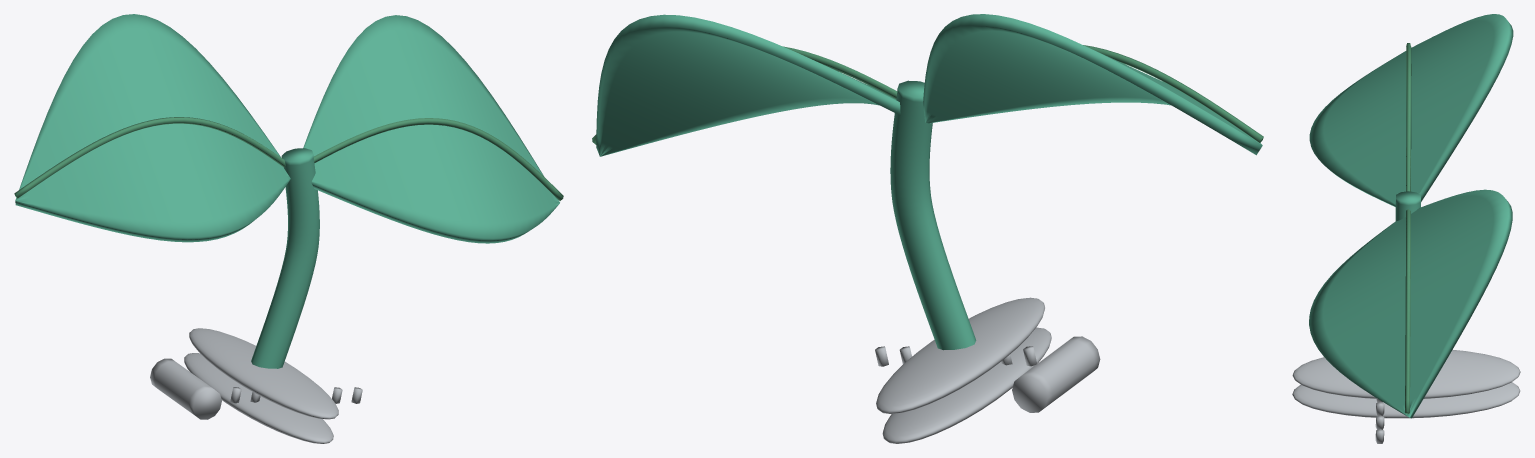
The model's file is Masculine-sidepart-pashmina250-sprout.glb.
The picture shows the model from 3 angles, left to right: view 1: azimuth 30°, elevation 25°; view 2: azimuth 150°, elevation 25°; view 3: azimuth 270°, elevation 25°; orthographic projection. The views are drawn at different scales.
Parts seen in each view (by area): view 1: 226 extra / Accessory / mint226, 226 extra / Sprout / clip silver235, 226 extra / Sprout / leaf vein235; view 2: 226 extra / Accessory / mint226, 226 extra / Sprout / clip silver235, 226 extra / Sprout / leaf vein235; view 3: 226 extra / Accessory / mint226, 226 extra / Sprout / clip silver235, 226 extra / Sprout / leaf vein235.
Part boxes in pixels (x1,y1,x2,y2): 226 extra / Accessory / mint226: (15,14,559,368); 226 extra / Sprout / clip silver235: (150,328,362,443); 226 extra / Sprout / leaf vein235: (14,117,563,200); 226 extra / Accessory / mint226: (596,14,1262,350); 226 extra / Sprout / clip silver235: (875,297,1100,443); 226 extra / Sprout / leaf vein235: (592,45,1263,144); 226 extra / Accessory / mint226: (1309,14,1513,418); 226 extra / Sprout / clip silver235: (1292,350,1520,443); 226 extra / Sprout / leaf vein235: (1405,43,1411,413).
Size of the model in its own units: 0.2644 by 0.1737 by 0.104.
